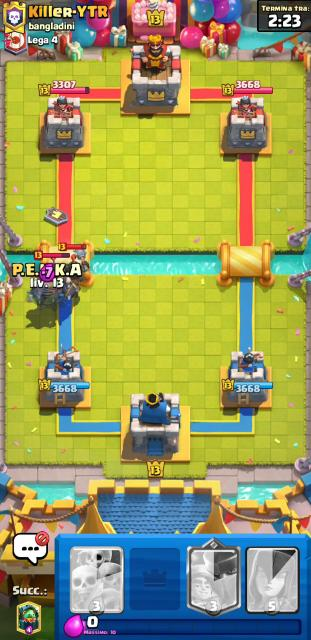enemy_melee: (58, 243, 90, 288)
